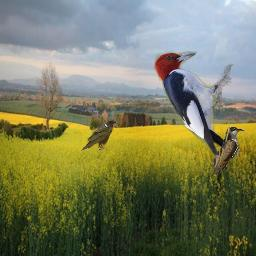Crow: (80, 119, 117, 152)
Cuckoo: (213, 127, 251, 175)
Woodpecker: (152, 48, 237, 159)
